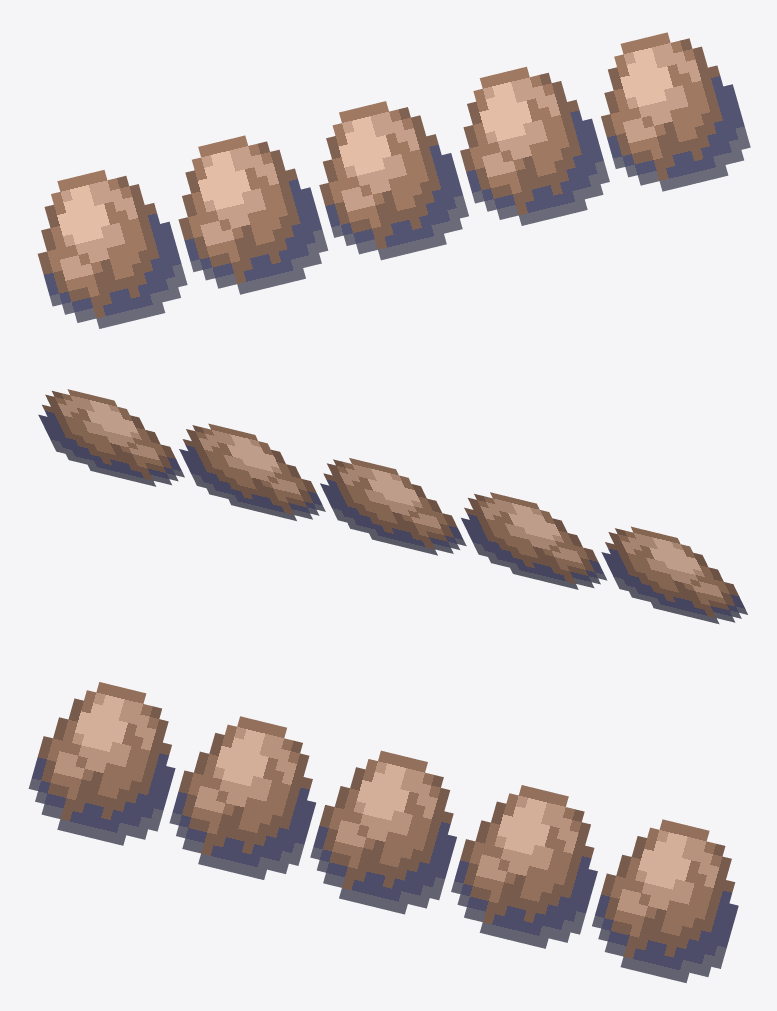
3 renders of one model, top to bottom at view 1: azimuth 30°, elevation 25°; view 2: azimuth 150°, elevation 25°; view 3: azimuth 330°, elevation 25°, orthographic.
Bounding box in the file's own units: 5 × 0.8516 × 0.5537.
Materials: 1 (1 with a texture image).
